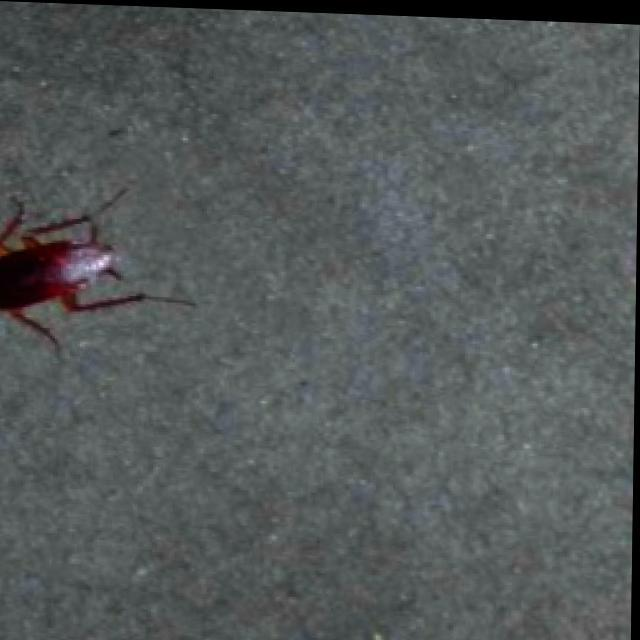cockroach: (0, 180, 198, 362)
